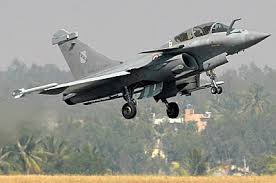fighter: (13, 14, 273, 122)
